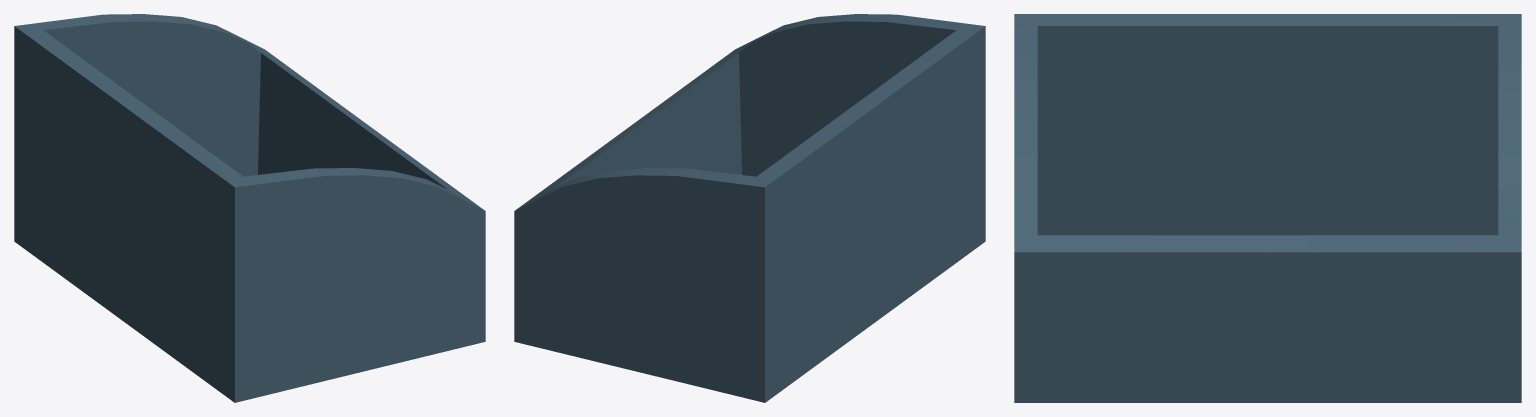
The model's file is gorenje.fbx.
The picture shows the model from 3 angles, left to right: view 1: azimuth 30°, elevation 25°; view 2: azimuth 150°, elevation 25°; view 3: azimuth 270°, elevation 25°; orthographic projection. The views are drawn at different scales.
Parts seen in each view (by area): view 1: Cube; view 2: Cube; view 3: Cube.
Boxes of the visible parts, <box> form: Cube: <box>14,14,485,402</box>; Cube: <box>514,14,985,402</box>; Cube: <box>1014,14,1521,402</box>.
Bounding box in the file's own units: 407 × 334 × 620.
